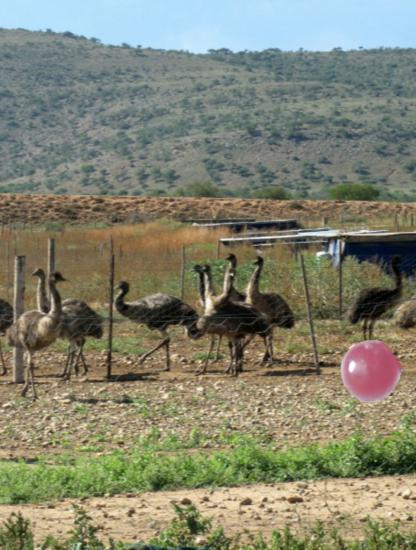Redcurrant: (339, 340, 401, 402)
